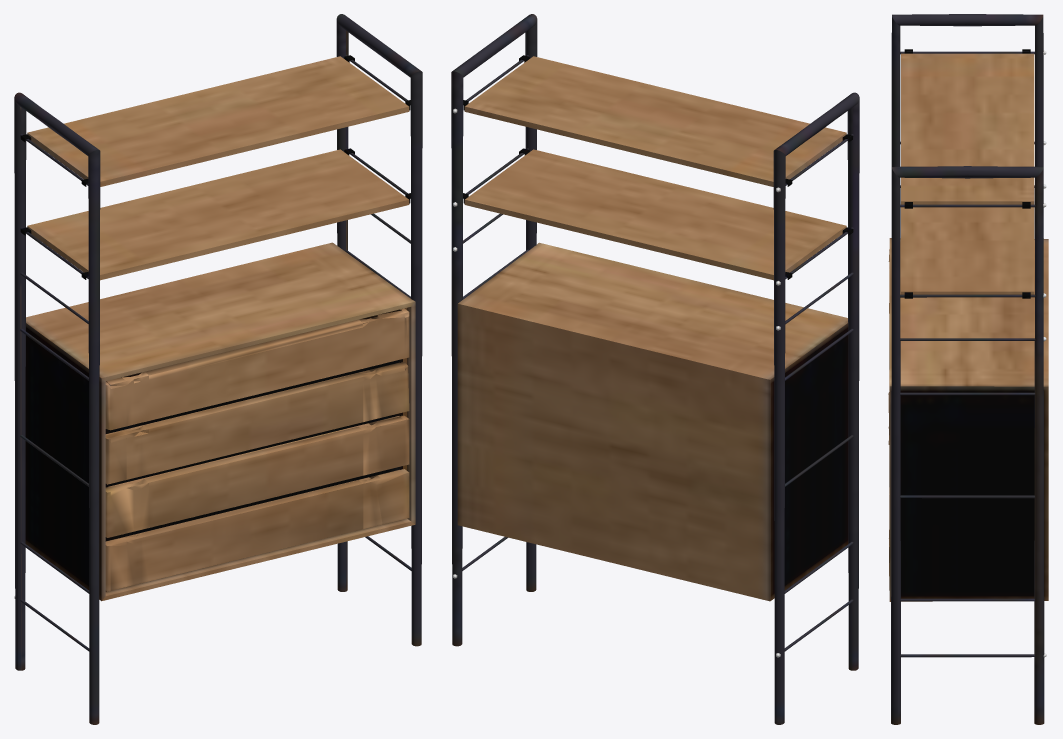
The model's file is drawer_cabinet.glb.
3 views of the same model, side by side, from view 1: azimuth 30°, elevation 25°; view 2: azimuth 150°, elevation 25°; view 3: azimuth 270°, elevation 25° (orthographic). The views are drawn at different scales.
Visible parts, largest first — view 1: drawer_cabinet, drawer_cabinet_drawer_03, drawer_cabinet_drawer_02, drawer_cabinet_drawer_04, drawer_cabinet_drawer_01; view 2: drawer_cabinet; view 3: drawer_cabinet.
Boxes of the visible parts, x1=… form: drawer_cabinet: x1=14, y1=14, x2=422, y2=724; drawer_cabinet_drawer_03: x1=105, y1=415, x2=409, y2=537; drawer_cabinet_drawer_02: x1=105, y1=362, x2=409, y2=484; drawer_cabinet_drawer_04: x1=105, y1=469, x2=409, y2=591; drawer_cabinet_drawer_01: x1=105, y1=308, x2=409, y2=430; drawer_cabinet: x1=451, y1=14, x2=859, y2=724; drawer_cabinet: x1=889, y1=14, x2=1048, y2=724.
Size of the model in its own units: 1.14 by 1.88 by 0.4902.
Materials: 1 (1 with a texture image).
